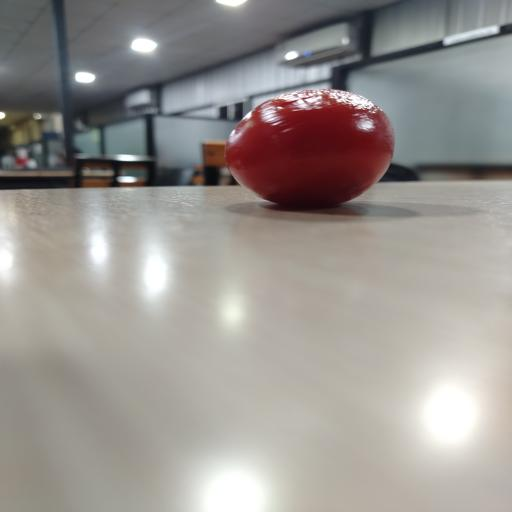spoiled: (226, 89, 394, 207)
